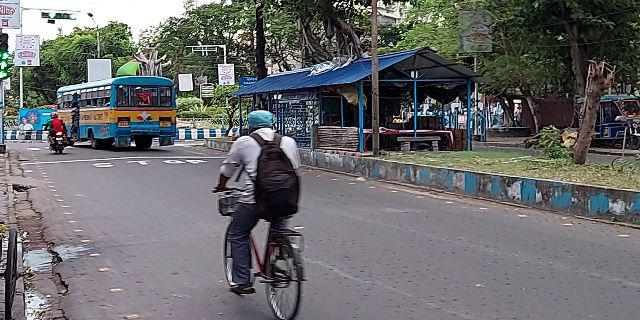Bus: (59, 72, 184, 152)
Cycle: (205, 110, 331, 317)
Motorbike: (45, 107, 69, 159)
